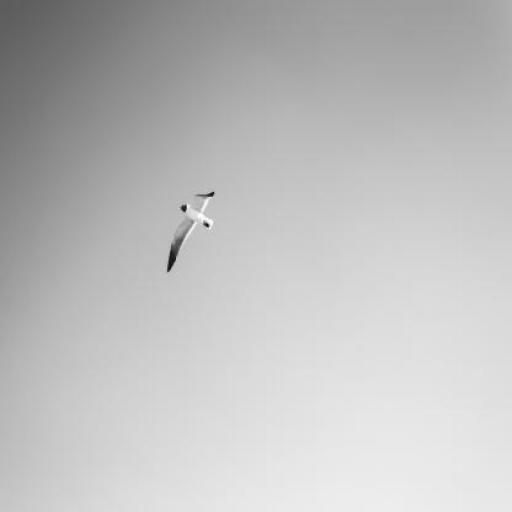bird: (167, 190, 215, 273)
